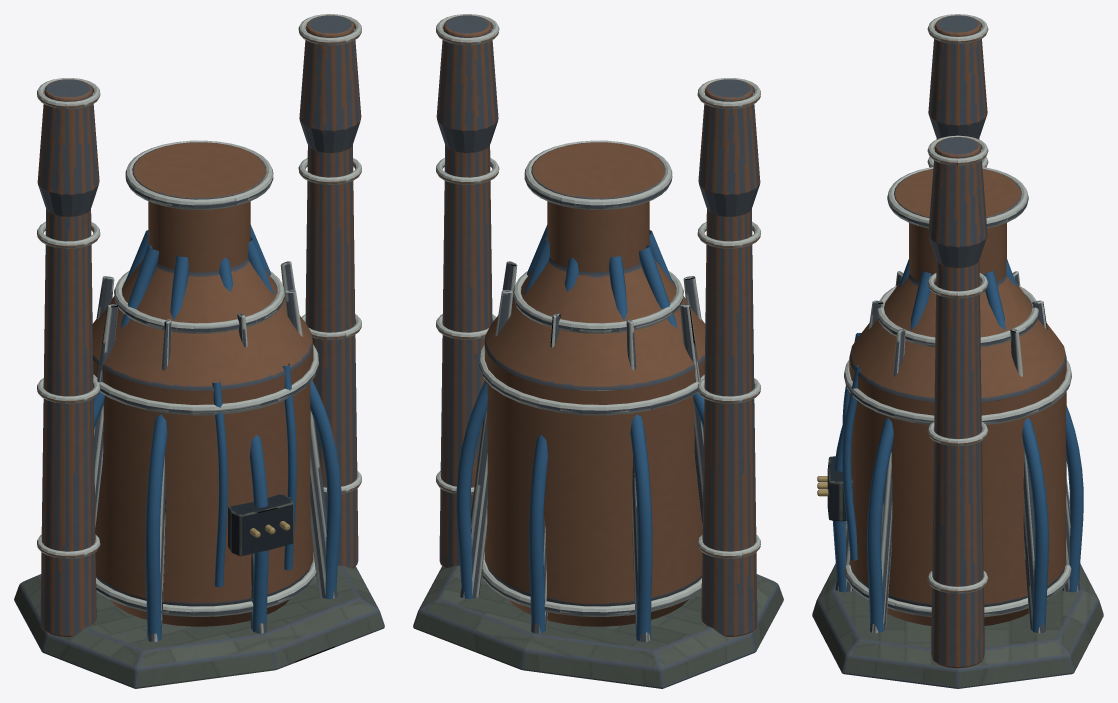
The model's file is refinery_core.glb.
3 views of the same model, side by side, from view 1: azimuth 30°, elevation 25°; view 2: azimuth 150°, elevation 25°; view 3: azimuth 270°, elevation 25° (orthographic). The views are drawn at different scales.
Parts seen in each view (by area): view 1: GT_0130_refinery_core; view 2: GT_0130_refinery_core; view 3: GT_0130_refinery_core.
Part boxes in pixels (x1,y1,x2,y2): GT_0130_refinery_core: (14, 14, 384, 688); GT_0130_refinery_core: (413, 14, 783, 688); GT_0130_refinery_core: (812, 14, 1103, 688).
Bounding box in the file's own units: 6.42 × 10.8 × 5.37.
1 material, 1 textured.
